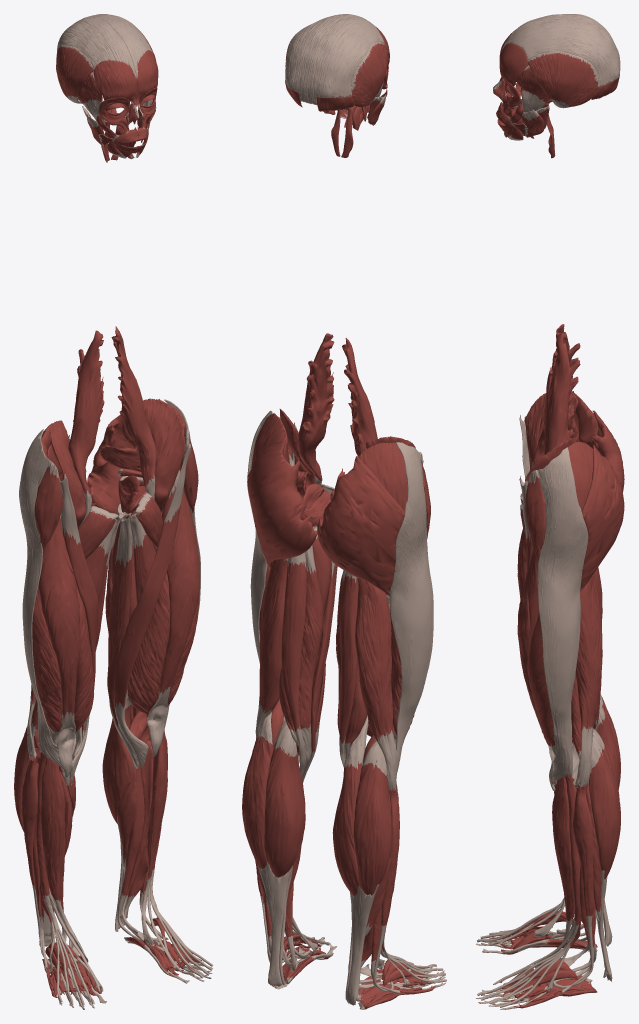
The model's file is muscles-0.glb.
The picture shows the model from 3 angles, left to right: view 1: azimuth 30°, elevation 25°; view 2: azimuth 150°, elevation 25°; view 3: azimuth 270°, elevation 25°; orthographic projection. The views are drawn at different scales.
Parts seen in each view (by area): view 1: Rectus_femoris_muscler, Rectus_femoris_musclel, Sartorius_musclel, Iliotibial_tractr, Psoas_majorr, Vastus_medialis_musclel, Gracilis_musclel, Tibialis_anterior_muscler, Iliacus_musclel, Psoas_majorl, Sartorius_muscler, Vastus_lateralis_muscler (+37 smaller); view 2: Iliotibial_tractr, Gluteus_maximus_muscler, Gluteus_maximus_musclel, Long_head_of_biceps_femorisr, Medial_head_of_gastrocnemiusl, Lateral_head_of_gastrocnemiusr, Epicranial_aponeurosisr, Semitendinosus_musclel, Semimembranosus_musclel, Long_head_of_biceps_femorisl, Psoas_majorl, Medial_head_of_gastrocnemiusr (+24 smaller); view 3: Iliotibial_tractl, Epicranial_aponeurosisl, Long_head_of_biceps_femorisl, Gluteus_maximus_musclel, Temporoparietalis_musclel, Lateral_head_of_gastrocnemiusl, Psoas_majorl, Fibularis_longus_musclel, Tibialis_anterior_musclel, Rectus_femoris_musclel, Vastus_lateralis_musclel, Tensor_fasciae_latael (+24 smaller).
Part boxes in pixels (x1=…): Rectus_femoris_muscler: x1=38, y1=513, x2=79, y2=777; Rectus_femoris_musclel: x1=146, y1=469, x2=199, y2=756; Sartorius_musclel: x1=114, y1=443, x2=190, y2=767; Iliotibial_tractr: x1=19, y1=429, x2=61, y2=765; Psoas_majorr: x1=68, y1=330, x2=104, y2=527; Vastus_medialis_musclel: x1=127, y1=573, x2=170, y2=739; Gracilis_musclel: x1=107, y1=515, x2=138, y2=769; Tibialis_anterior_muscler: x1=41, y1=757, x2=88, y2=962; Iliacus_musclel: x1=142, y1=398, x2=186, y2=513; Psoas_majorl: x1=111, y1=326, x2=156, y2=499; Sartorius_muscler: x1=58, y1=474, x2=98, y2=784; Vastus_lateralis_muscler: x1=32, y1=587, x2=62, y2=769; Iliotibial_tractr: x1=389, y1=442, x2=433, y2=774; Gluteus_maximus_muscler: x1=317, y1=456, x2=404, y2=596; Gluteus_maximus_musclel: x1=247, y1=438, x2=317, y2=567; Long_head_of_biceps_femorisr: x1=355, y1=577, x2=397, y2=790; Medial_head_of_gastrocnemiusl: x1=264, y1=719, x2=305, y2=877; Lateral_head_of_gastrocnemiusr: x1=353, y1=741, x2=391, y2=895; Epicranial_aponeurosisr: x1=307, y1=15, x2=385, y2=105; Semitendinosus_musclel: x1=281, y1=552, x2=306, y2=776; Semimembranosus_musclel: x1=279, y1=545, x2=323, y2=765; Long_head_of_biceps_femorisl: x1=255, y1=558, x2=288, y2=738; Psoas_majorl: x1=298, y1=333, x2=334, y2=485; Medial_head_of_gastrocnemiusr: x1=332, y1=715, x2=368, y2=895; Iliotibial_tractl: x1=537, y1=447, x2=588, y2=781; Epicranial_aponeurosisl: x1=504, y1=18, x2=620, y2=86; Long_head_of_biceps_femorisl: x1=575, y1=574, x2=602, y2=787; Gluteus_maximus_musclel: x1=580, y1=445, x2=624, y2=591; Temporoparietalis_musclel: x1=527, y1=51, x2=598, y2=108; Lateral_head_of_gastrocnemiusl: x1=589, y1=735, x2=620, y2=879; Psoas_majorl: x1=544, y1=333, x2=580, y2=454; Fibularis_longus_musclel: x1=553, y1=784, x2=593, y2=988; Tibialis_anterior_musclel: x1=534, y1=777, x2=574, y2=968; Rectus_femoris_musclel: x1=517, y1=549, x2=555, y2=791; Vastus_lateralis_musclel: x1=528, y1=613, x2=572, y2=784; Tensor_fasciae_latael: x1=525, y1=470, x2=546, y2=560.
Bounding box in the file's own units: 0.3223 × 1.7 × 0.2403.
